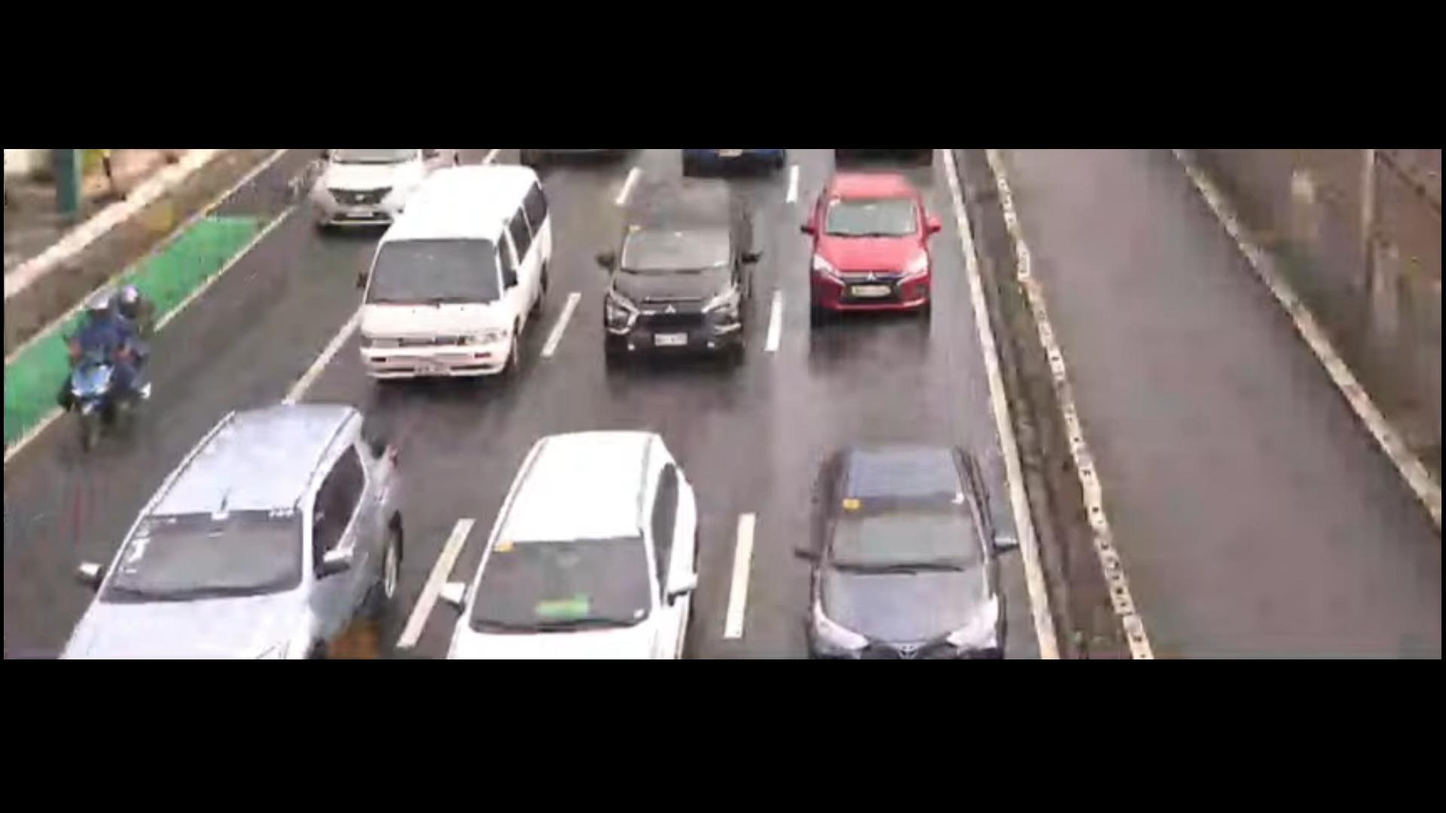Motorcycle: (46, 277, 192, 467)
SUV: (60, 401, 424, 669), (444, 399, 727, 657), (576, 175, 759, 375)
Sedan: (799, 426, 1023, 654), (786, 157, 955, 333), (307, 140, 441, 229)
Van: (341, 158, 565, 405)
